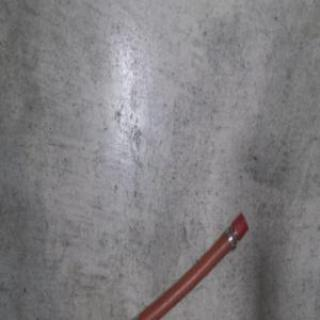Hosetrack_idkeyframe: (116, 208, 248, 319)
